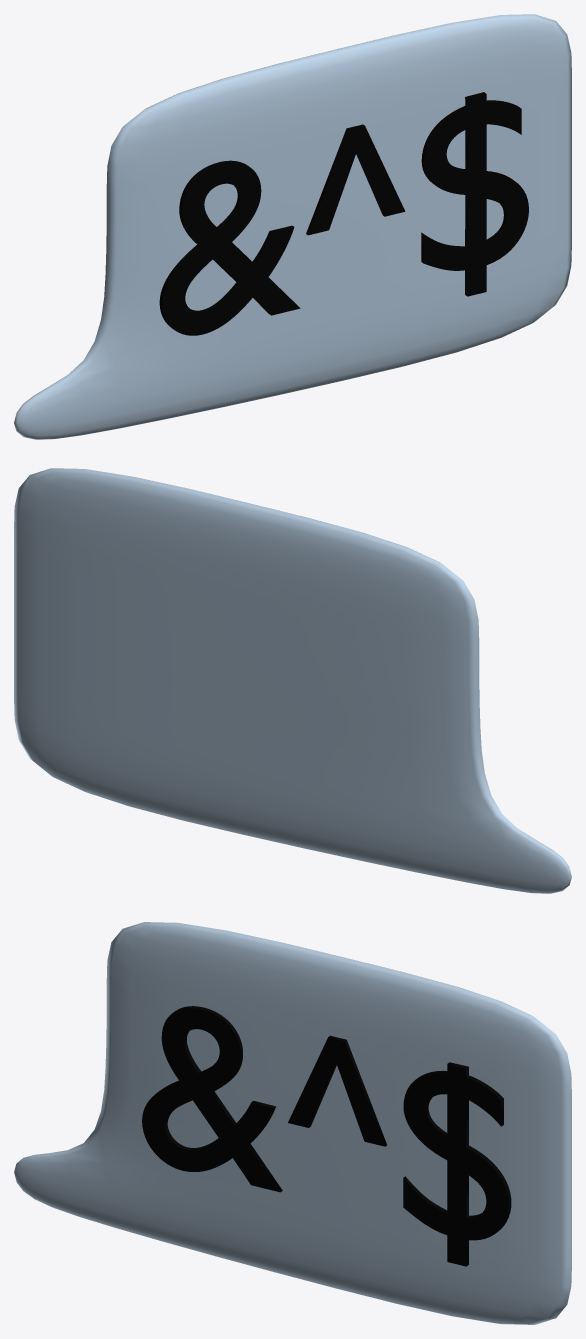
The model's file is foshboland3.fbx.
The picture shows the model from 3 angles, top to bottom: view 1: azimuth 30°, elevation 25°; view 2: azimuth 150°, elevation 25°; view 3: azimuth 330°, elevation 25°; orthographic projection.
Visible parts, largest first — view 1: Cube, Text; view 2: Cube; view 3: Cube, Text.
Part boxes in pixels (<box>): Cube: <box>14,14,571,439</box>; Text: <box>159,92,528,335</box>; Cube: <box>14,468,571,893</box>; Cube: <box>14,922,571,1324</box>; Text: <box>142,1006,511,1266</box>.
Bounding box in the file's own units: 186 × 106 × 10.54.
